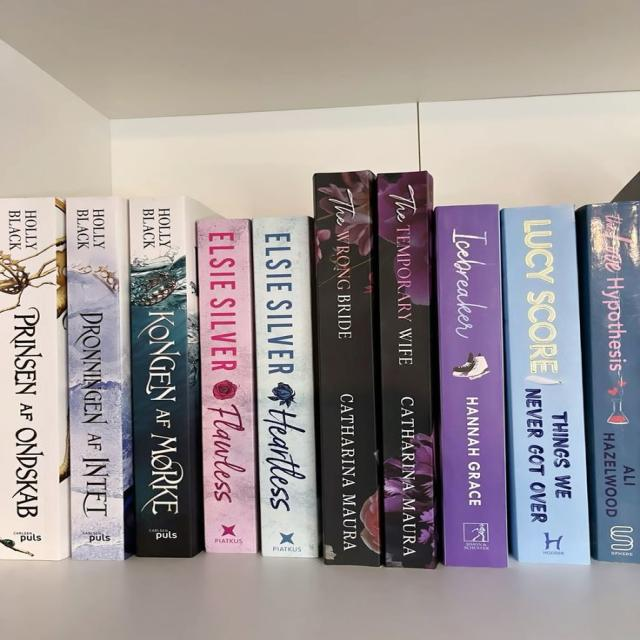book: (130, 198, 217, 557), (502, 205, 589, 564), (313, 170, 379, 566), (435, 204, 507, 567), (0, 198, 69, 559), (375, 171, 437, 568), (66, 198, 131, 560), (252, 216, 319, 558), (577, 202, 639, 563), (197, 218, 258, 553), (527, 375, 560, 383)
